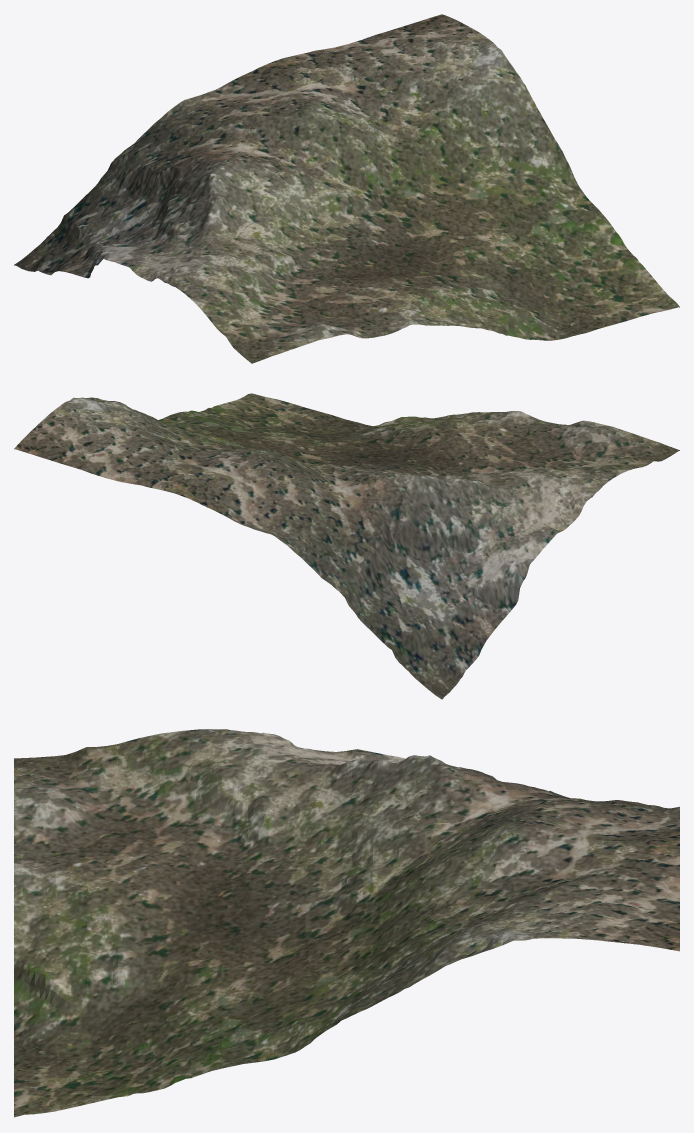
3 views of the same model, one above another, from view 1: azimuth 30°, elevation 25°; view 2: azimuth 150°, elevation 25°; view 3: azimuth 270°, elevation 25° (orthographic). The views are drawn at different scales.
Bounding box in the file's own units: 500 × 175 × 481.
Materials: 1 (1 with a texture image).
